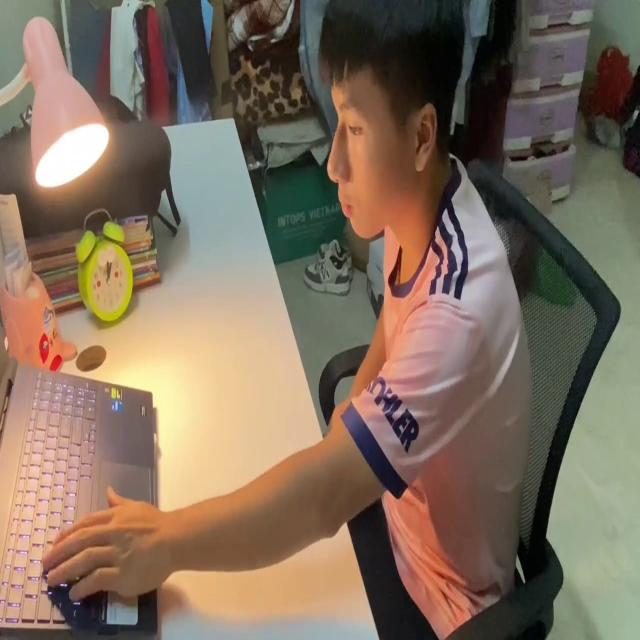student: (44, 0, 534, 640), (0, 301, 165, 640)
